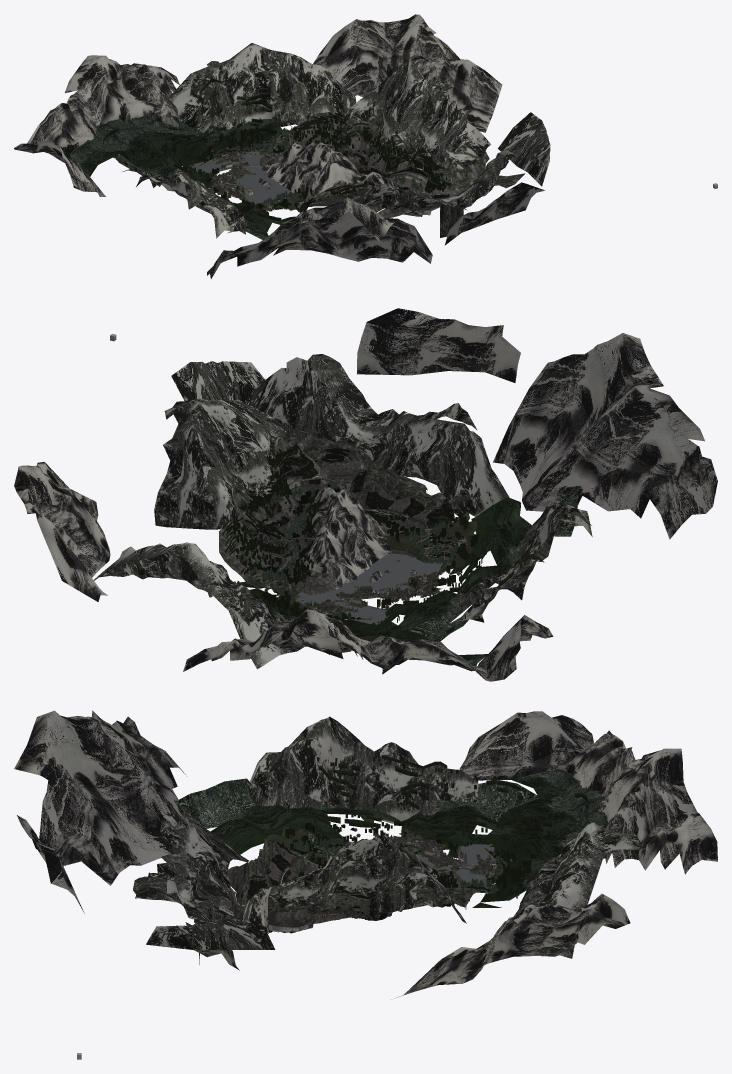
The model's file is white_mountain.glb.
3 renders of one model, top to bottom at view 1: azimuth 30°, elevation 25°; view 2: azimuth 150°, elevation 25°; view 3: azimuth 270°, elevation 25°, orthographic. The views are drawn at different scales.
Visible parts, largest first — view 1: mesh; view 2: mesh; view 3: mesh.
Part boxes in pixels (left/top/right/bottom): mesh: left=14, top=14, right=717, bottom=278; mesh: left=14, top=308, right=717, bottom=681; mesh: left=14, top=710, right=717, bottom=1059.
Size of what is drawn, in the model's own units: 8340 by 1883 by 7925.
Materials: 100 (99 with a texture image).
